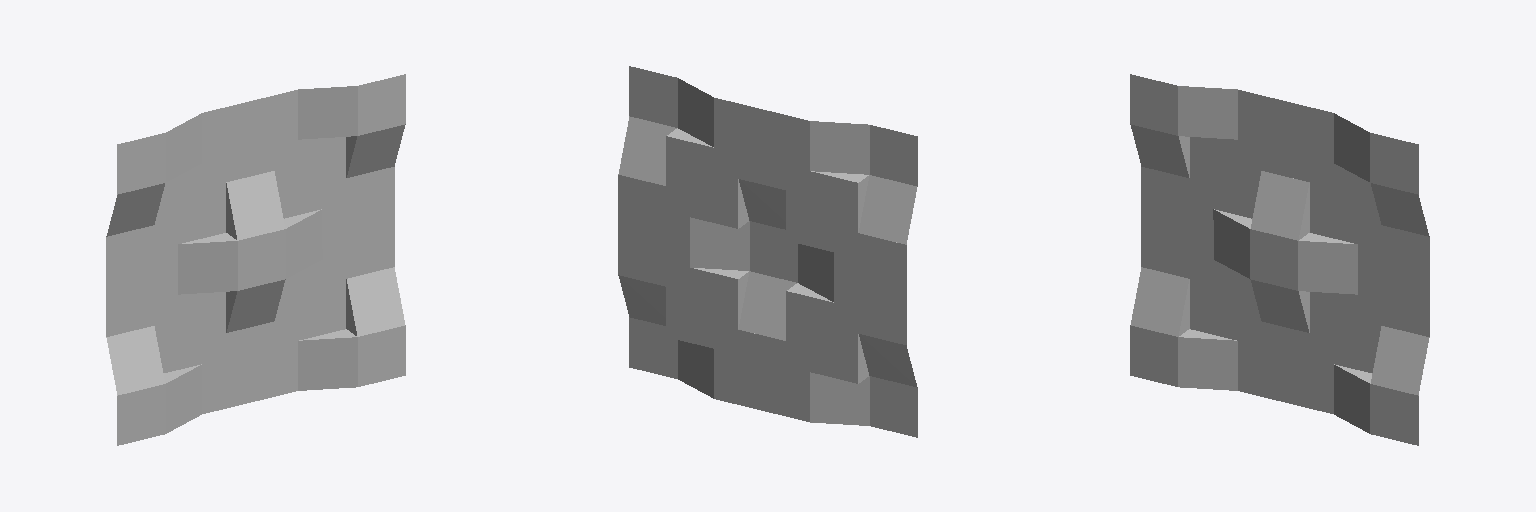
The model's file is tag1_4.obj.
3 renders of one model, left to right at view 1: azimuth 30°, elevation 25°; view 2: azimuth 150°, elevation 25°; view 3: azimuth 330°, elevation 25°, orthographic.
Parts seen in each view (by area): view 1: Grid; view 2: Grid; view 3: Grid.
Part boxes in pixels (left/top/right/bottom): Grid: left=106, top=74, right=405, bottom=445; Grid: left=618, top=66, right=917, bottom=437; Grid: left=1130, top=74, right=1429, bottom=445.
Size of the model in its own units: 30 by 30 by 2.